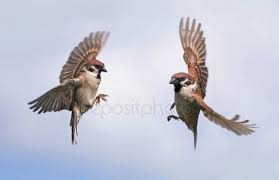hsparrow: (164, 14, 261, 159), (19, 26, 119, 152)
